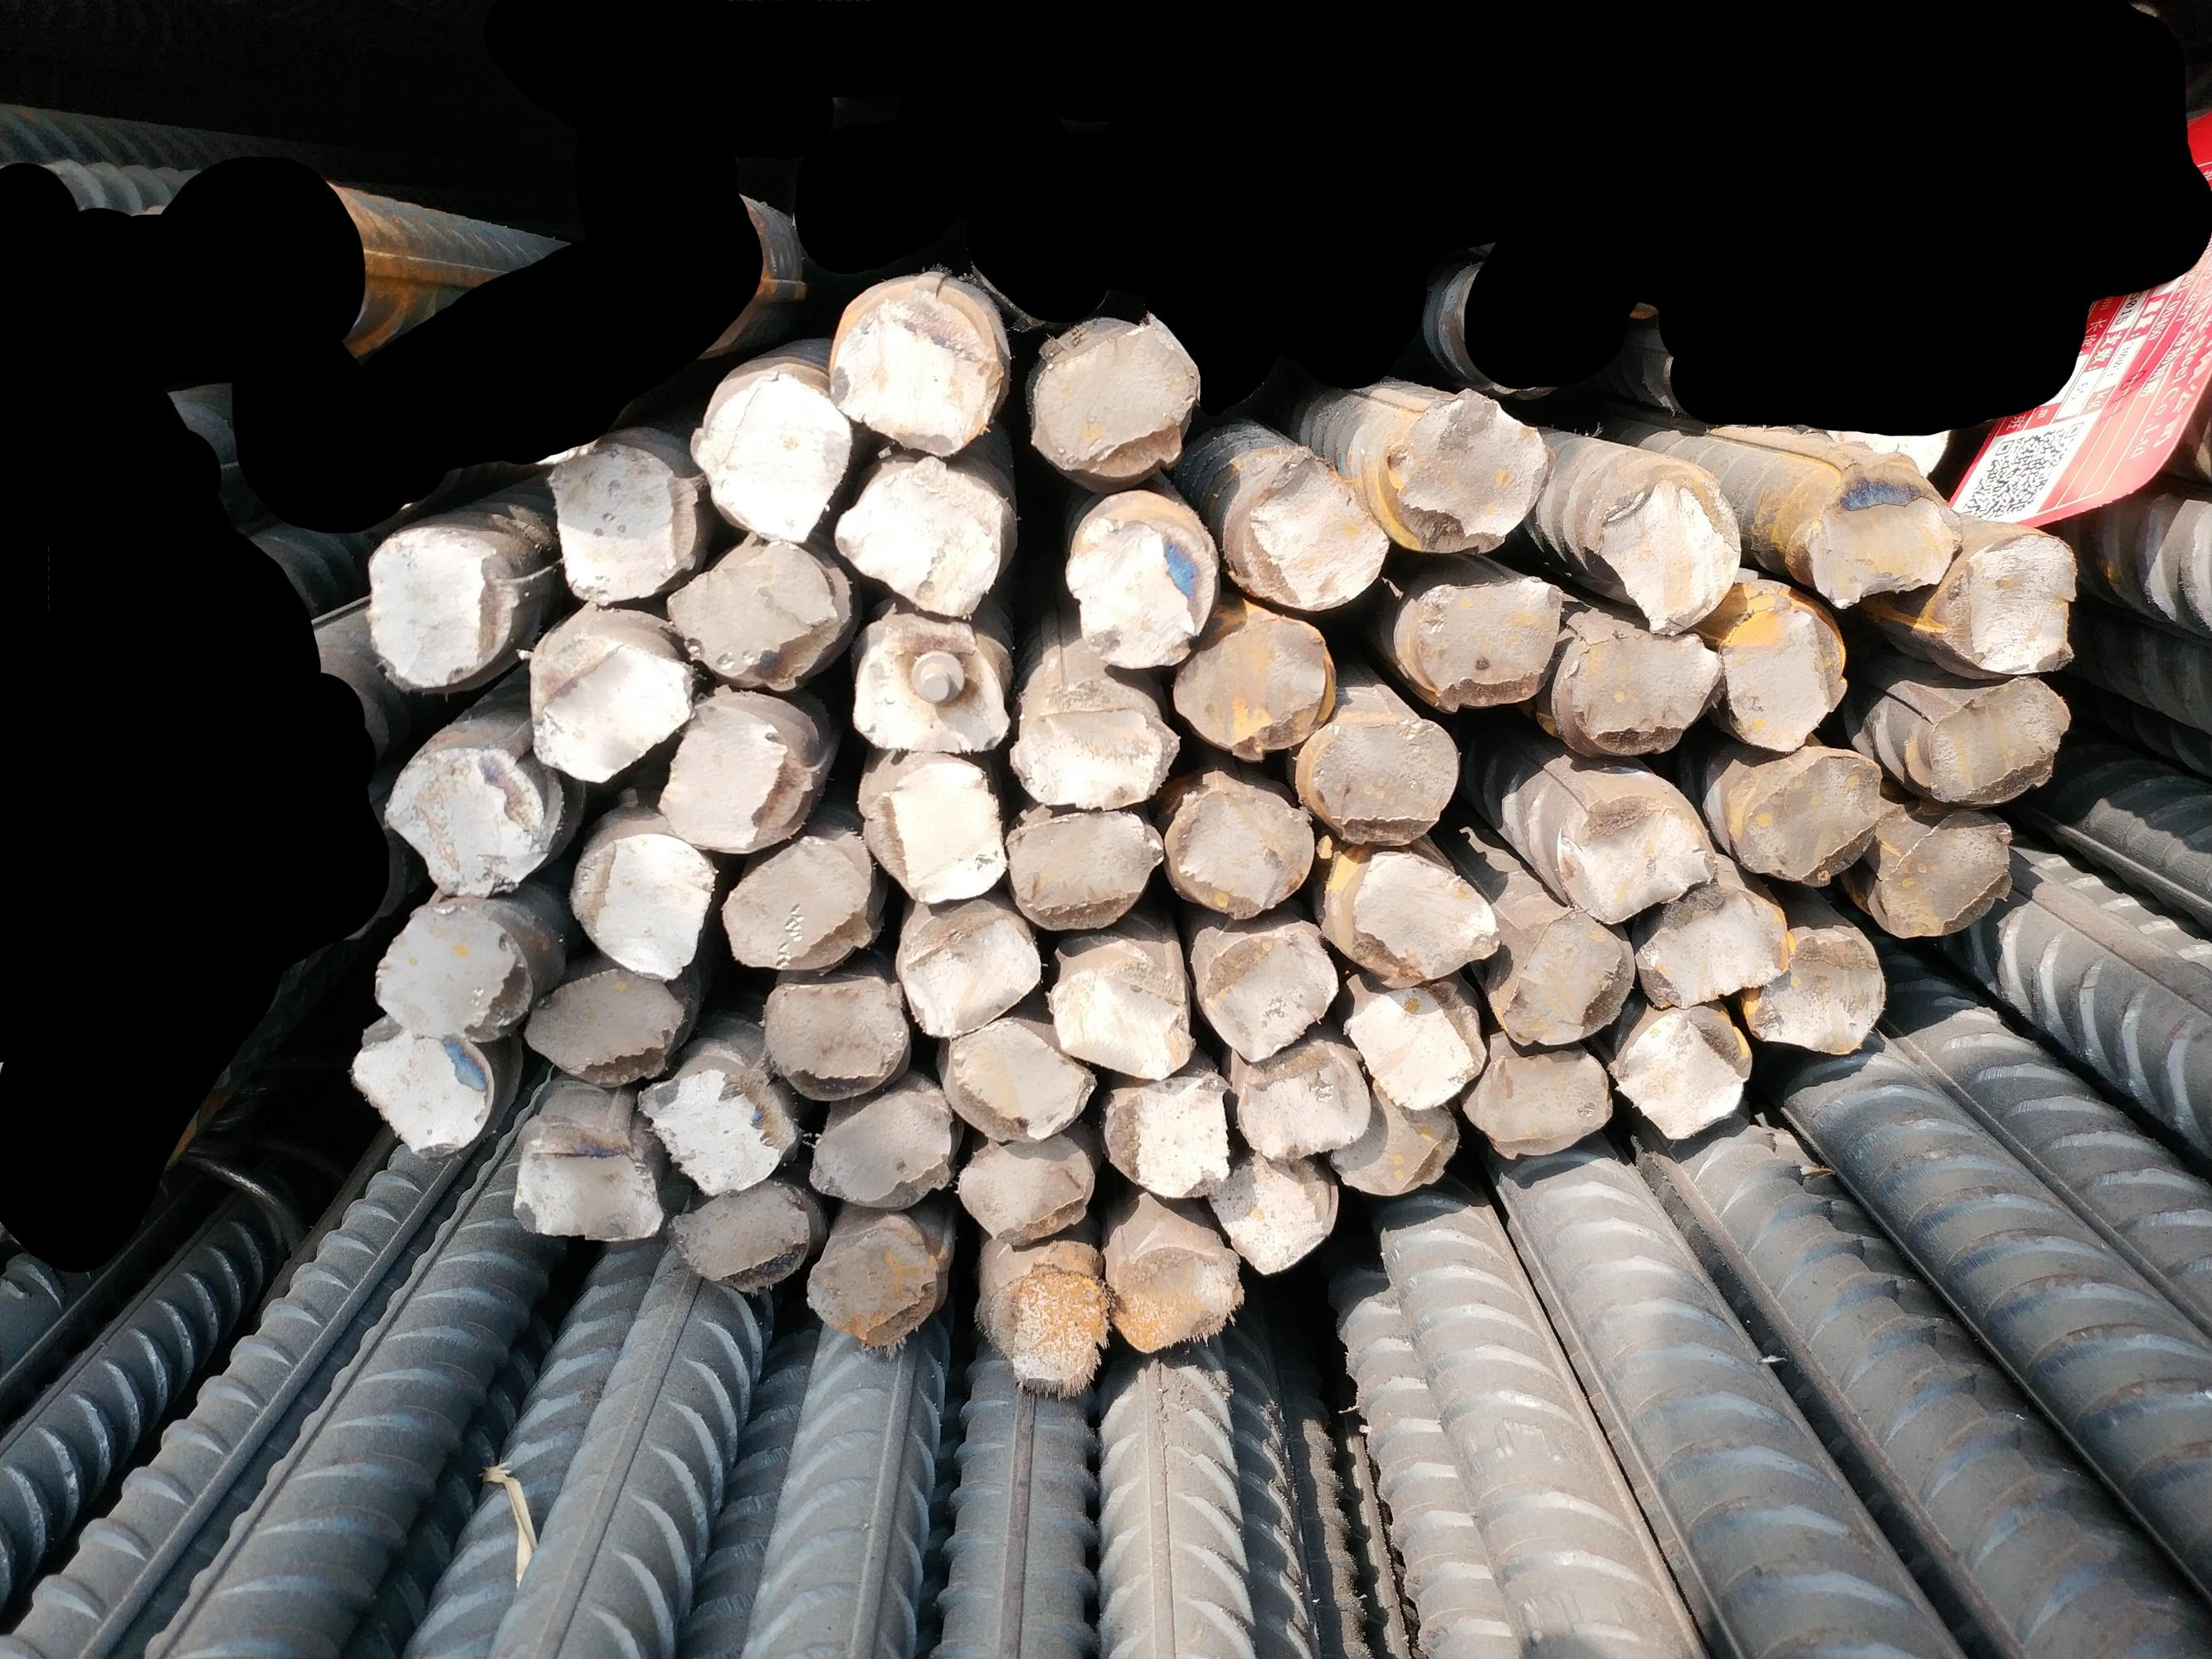bar: (826, 282, 1004, 458), (830, 448, 1011, 620), (690, 359, 854, 545), (662, 530, 845, 695), (1584, 457, 1745, 638), (359, 523, 525, 697), (377, 739, 553, 903), (1382, 385, 1551, 552), (1222, 451, 1393, 615), (525, 622, 694, 784), (1028, 314, 1194, 477), (1170, 610, 1342, 765), (1795, 453, 1964, 610), (547, 437, 702, 608), (657, 697, 819, 854), (1067, 512, 1220, 678), (851, 746, 1011, 903), (718, 826, 879, 978), (568, 828, 722, 985), (371, 899, 535, 1046), (1300, 709, 1466, 852), (1163, 777, 1323, 924), (1346, 847, 1506, 992), (1632, 871, 1794, 1012), (845, 617, 1011, 755), (1605, 1000, 1757, 1148), (1717, 591, 1851, 756), (340, 1019, 495, 1162), (1410, 570, 1565, 713), (629, 1070, 797, 1202), (1558, 788, 1719, 925), (1002, 805, 1166, 938), (1935, 528, 2080, 676), (1192, 924, 1342, 1065), (894, 897, 1046, 1037), (514, 967, 683, 1091), (1565, 631, 1722, 762), (1342, 976, 1489, 1114), (1921, 673, 2073, 805), (1042, 960, 1204, 1084), (760, 976, 917, 1103), (1872, 802, 2013, 943), (1499, 904, 1637, 1049), (1736, 749, 1883, 885), (940, 1016, 1100, 1140), (509, 1131, 669, 1251), (805, 1213, 948, 1347), (1098, 1065, 1232, 1206), (1466, 1039, 1618, 1162), (976, 1256, 1112, 1394), (1745, 929, 1890, 1058), (1006, 706, 1180, 812), (805, 1089, 955, 1211), (1231, 1039, 1377, 1162), (1206, 1147, 1339, 1276), (953, 1127, 1096, 1246), (1325, 1077, 1462, 1199), (671, 1178, 812, 1297), (1105, 1243, 1246, 1356)
